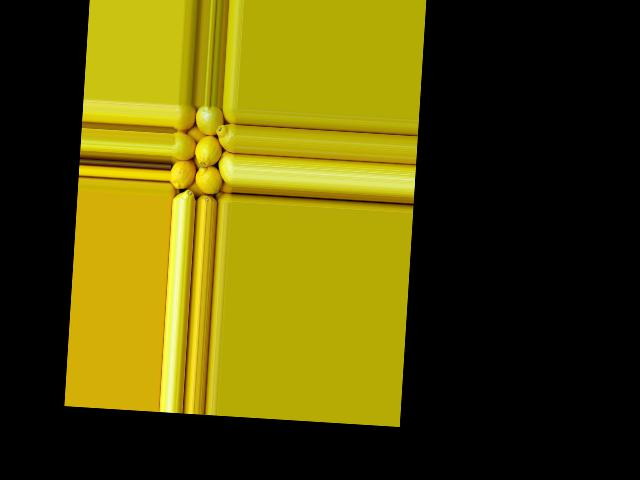lemon: (220, 105, 236, 122)
